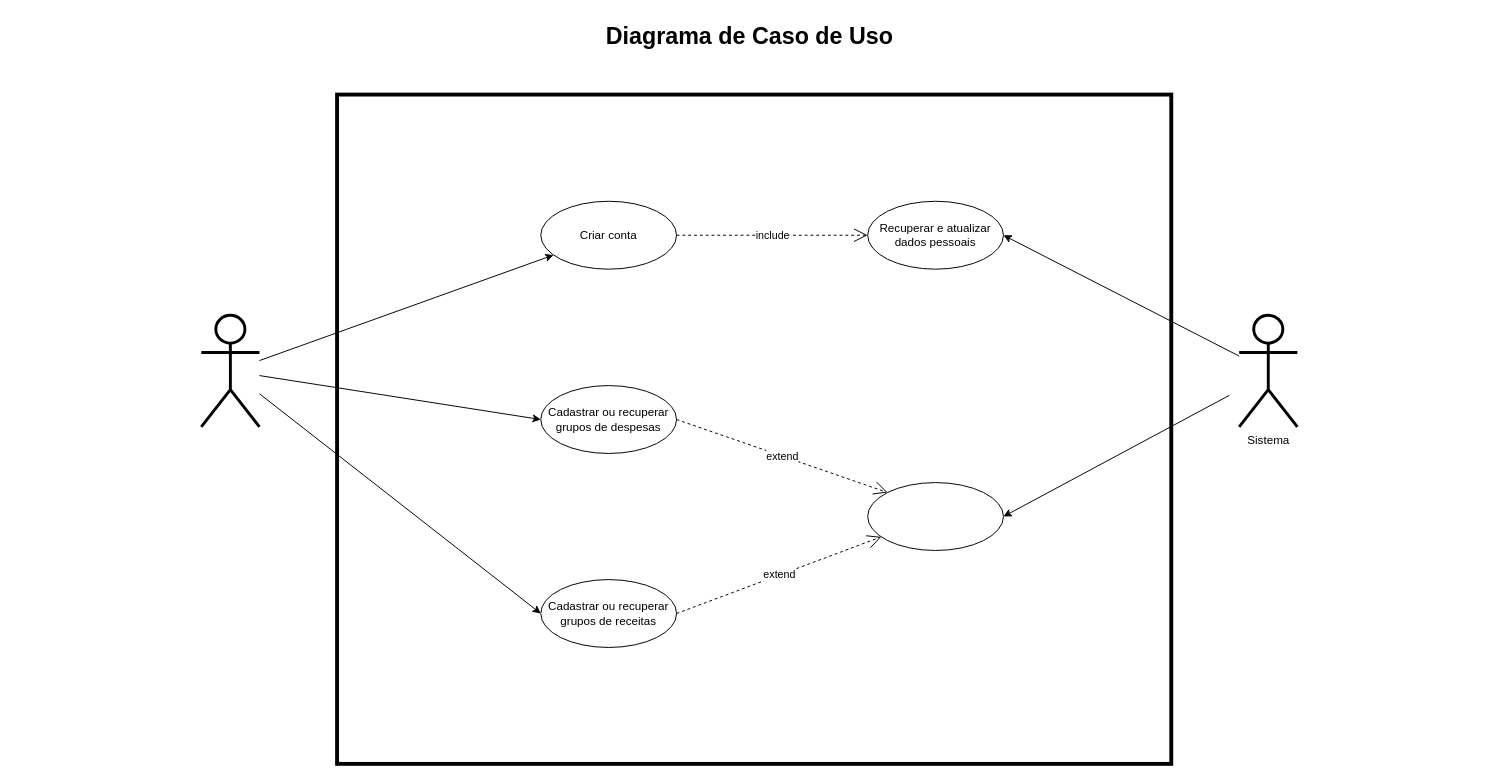
This 1498x782 diagram has some shape labels left out. Each missing label, with the centre of its shape:
Exibir receitas e despesas mensais: the point at 935,516
Usuário: the point at 229,370
